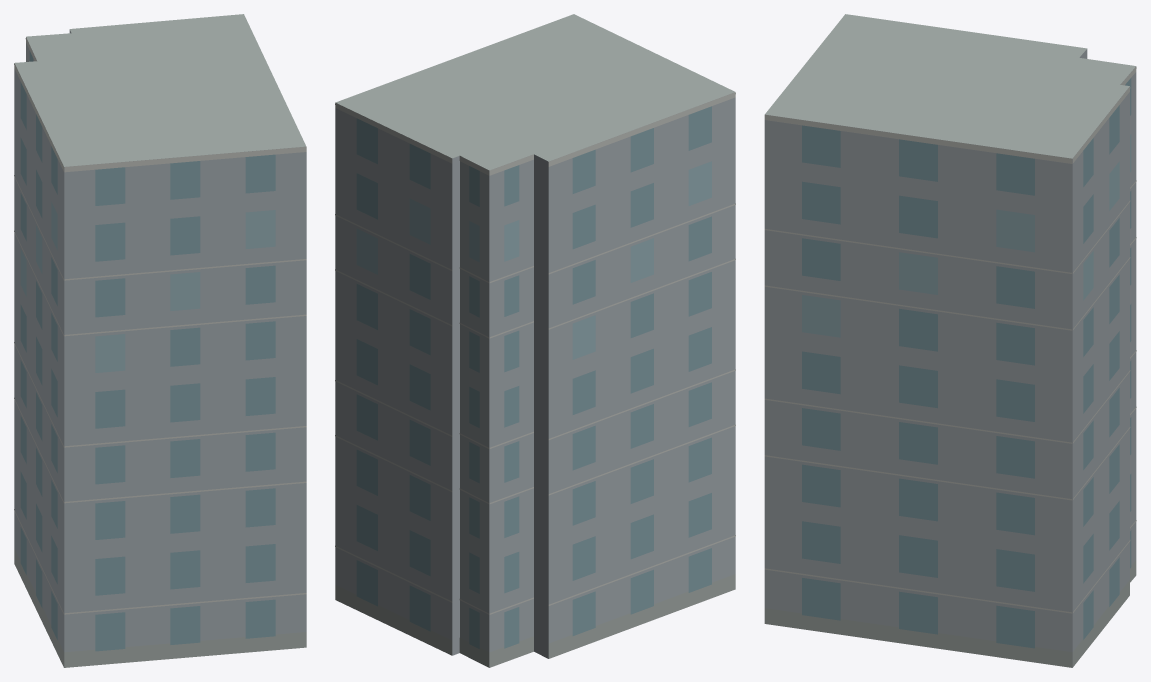
The model's file is survey-upis-33036335.glb.
3 renders of one model, left to right at view 1: azimuth 30°, elevation 25°; view 2: azimuth 150°, elevation 25°; view 3: azimuth 270°, elevation 25°, orthographic. The views are drawn at different scales.
Parts seen in each view (by area): view 1: survey-upis-33036335.tmp; view 2: survey-upis-33036335.tmp; view 3: survey-upis-33036335.tmp.
Part boxes in pixels (x1=…): survey-upis-33036335.tmp: x1=14, y1=14, x2=306, y2=667; survey-upis-33036335.tmp: x1=335, y1=14, x2=735, y2=667; survey-upis-33036335.tmp: x1=764, y1=14, x2=1136, y2=667.
Size of the model in its own units: 13.79 by 22.6 by 14.98.
